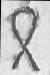V7: (4, 0, 46, 74)
